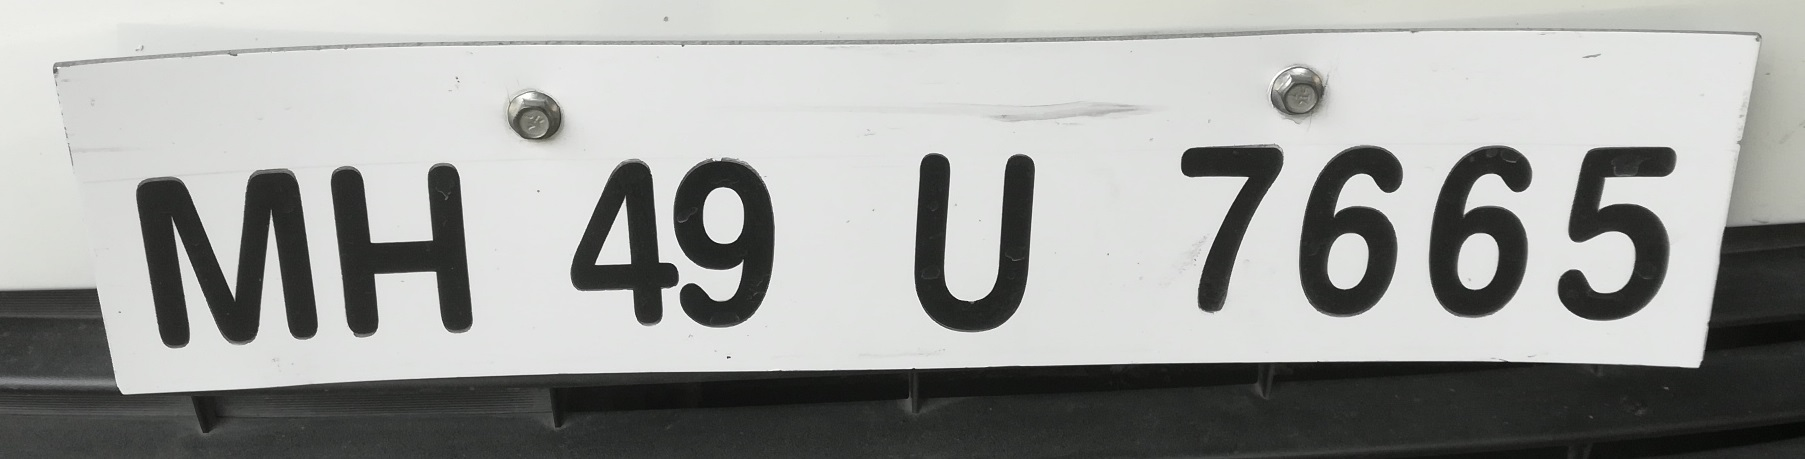numberplate: (56, 24, 1763, 406)
